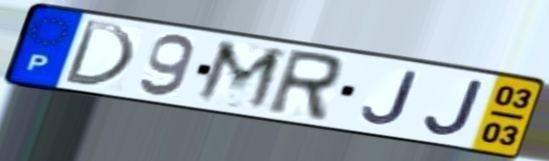9: (136, 31, 197, 98)
D: (59, 17, 137, 90)
J: (422, 77, 489, 138), (359, 69, 421, 128)
M: (190, 37, 290, 115)
R: (262, 47, 347, 125)
